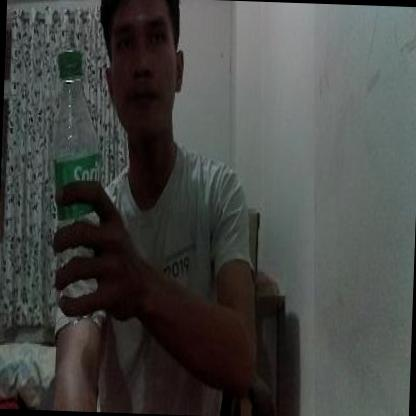plastic_bottles: (45, 53, 116, 318)
